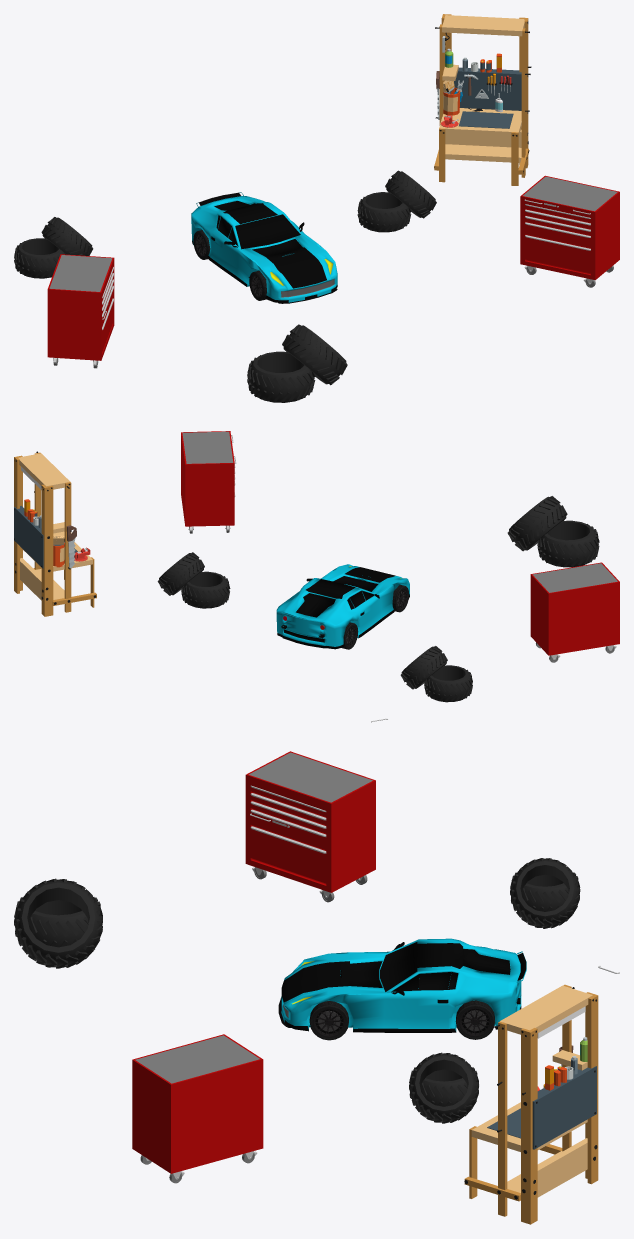
Rendered from ferrari_scene.glb.
3 views of the same model, one above another, from view 1: azimuth 30°, elevation 25°; view 2: azimuth 150°, elevation 25°; view 3: azimuth 270°, elevation 25° (orthographic). The views are drawn at different scales.
Visible parts, largest first — view 1: Bench.001, Cube, Mesh9 Group2 UC_091_1 Model.001, Mesh9 Group2 UC_091_1 Model, Debris_Tires, Debris_Tires.002, Debris_Tires.001, Mesh45 Group7 UC_091_1 Model, Mesh44 Group7 UC_091_1 Model; view 2: Mesh9 Group2 UC_091_1 Model.001, Bench.001, Cube, Mesh9 Group2 UC_091_1 Model, Debris_Tires, Debris_Tires.002, Debris_Tires.001; view 3: Bench.001, Cube, Mesh9 Group2 UC_091_1 Model, Mesh9 Group2 UC_091_1 Model.001, Debris_Tires, Debris_Tires.001, Debris_Tires.002, Mesh45 Group7 UC_091_1 Model.001, Lamborghini_Aventador_Wheel_FR.003, Lamborghini_Aventador_Wheel_FR.002, Mesh44 Group7 UC_091_1 Model.001.
Part boxes in pixels (bbox=[...]): Bench.001: bbox=[434, 14, 531, 185]; Cube: bbox=[191, 192, 337, 303]; Mesh9 Group2 UC_091_1 Model.001: bbox=[47, 254, 114, 360]; Mesh9 Group2 UC_091_1 Model: bbox=[520, 175, 619, 280]; Debris_Tires: bbox=[247, 324, 347, 402]; Debris_Tires.002: bbox=[357, 170, 436, 232]; Debris_Tires.001: bbox=[14, 217, 93, 278]; Mesh45 Group7 UC_091_1 Model: bbox=[525, 237, 590, 274]; Mesh44 Group7 UC_091_1 Model: bbox=[525, 224, 590, 248]; Mesh9 Group2 UC_091_1 Model.001: bbox=[530, 562, 619, 655]; Bench.001: bbox=[14, 451, 96, 616]; Cube: bbox=[276, 564, 409, 649]; Mesh9 Group2 UC_091_1 Model: bbox=[181, 431, 234, 526]; Debris_Tires: bbox=[507, 496, 599, 567]; Debris_Tires.002: bbox=[157, 552, 230, 608]; Debris_Tires.001: bbox=[400, 646, 472, 702]; Bench.001: bbox=[464, 984, 598, 1224]; Cube: bbox=[278, 938, 526, 1032]; Mesh9 Group2 UC_091_1 Model: bbox=[132, 1034, 263, 1173]; Mesh9 Group2 UC_091_1 Model.001: bbox=[245, 751, 375, 892]; Debris_Tires: bbox=[14, 878, 102, 968]; Debris_Tires.001: bbox=[510, 858, 580, 928]; Debris_Tires.002: bbox=[409, 1052, 478, 1123]; Mesh45 Group7 UC_091_1 Model.001: bbox=[250, 828, 326, 884]; Lamborghini_Aventador_Wheel_FR.003: bbox=[309, 1001, 348, 1040]; Lamborghini_Aventador_Wheel_FR.002: bbox=[455, 1000, 494, 1039]; Mesh44 Group7 UC_091_1 Model.001: bbox=[250, 812, 326, 850].
Bounding box in the file's own units: 11.12 × 3.02 × 7.78.
Materials: 41 (5 with a texture image).
